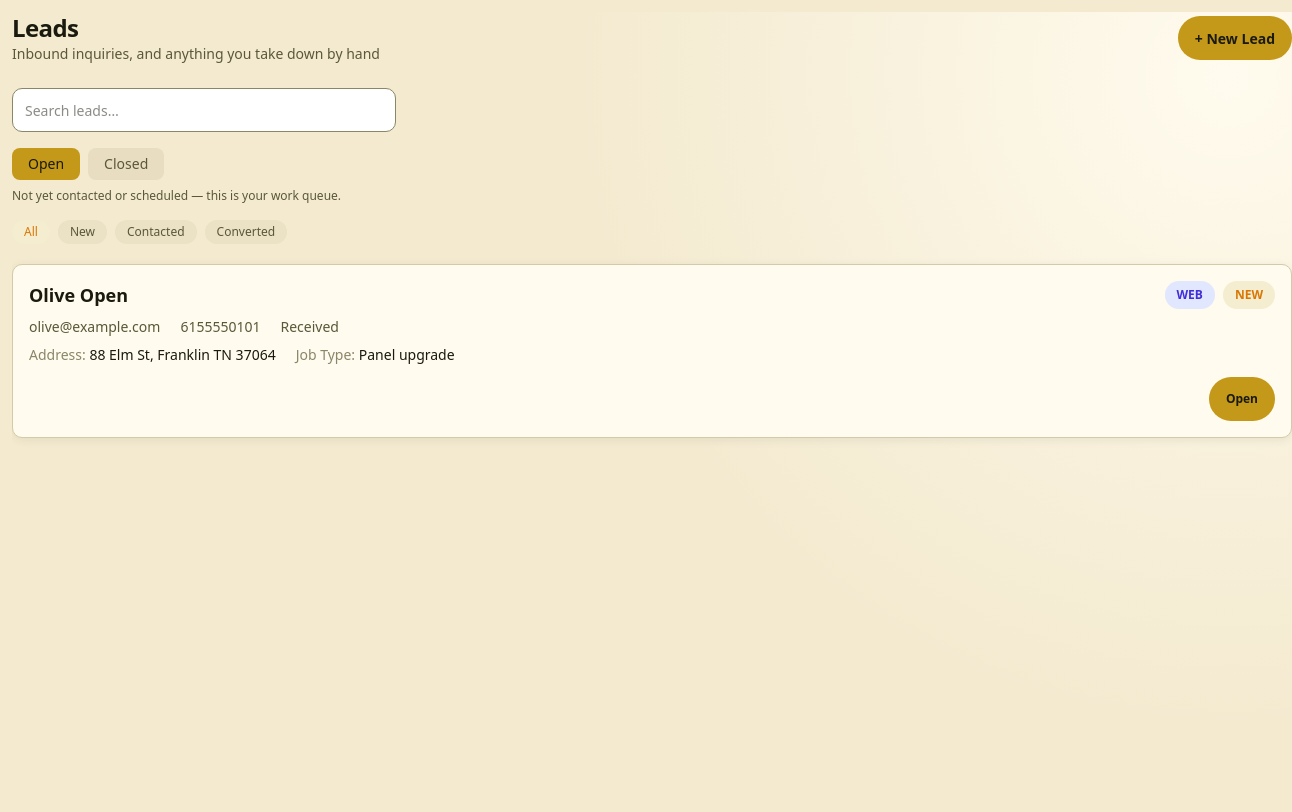
Scenario: LeadsPage — Search leads… › finds a lead on each tab by name and tags the card Open or Closed
The image size is (1292, 812).
Check: the heading "Olive Open" is shown, box [29,281,128,309]
Step 1. Type "o" into the field with placeholder "Search leads…" → (204, 110), box [12,88,396,132]
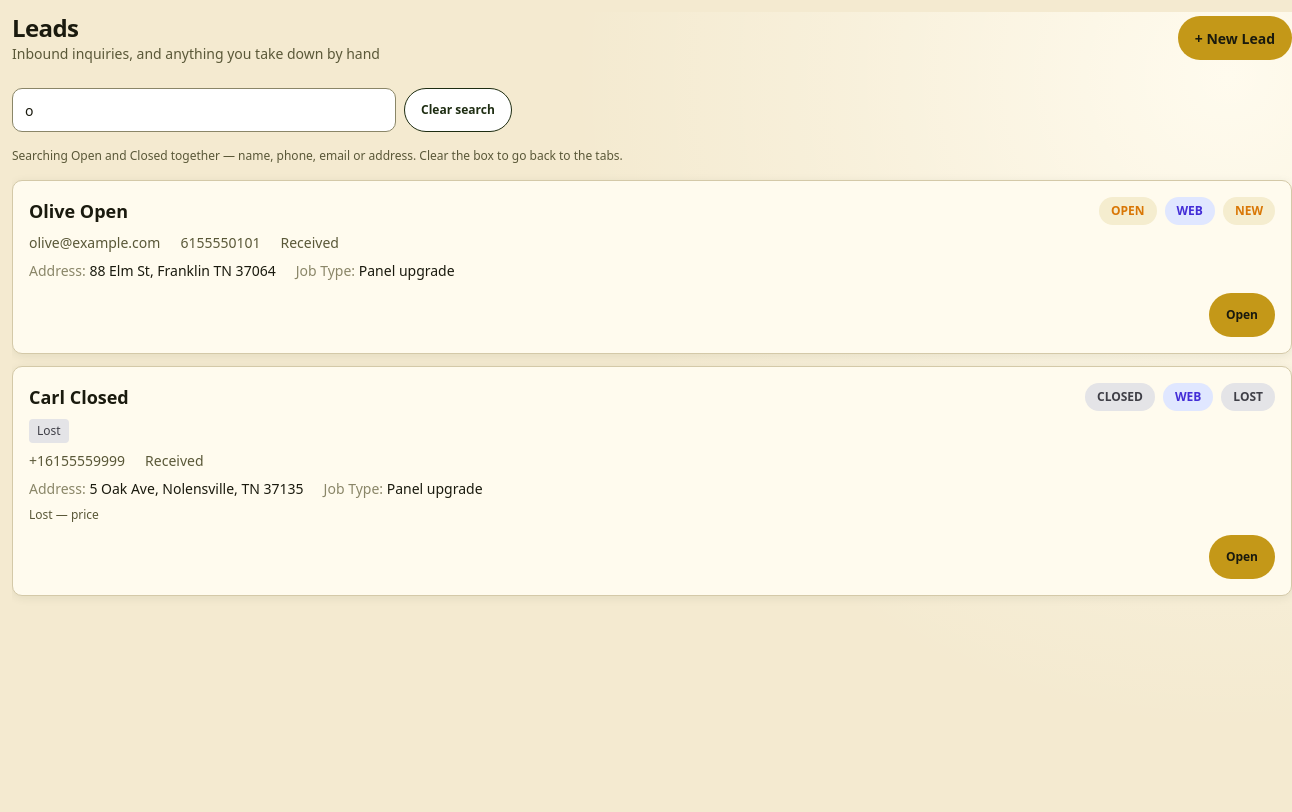
Check: the heading "Carl Closed" is shown, box [29,383,129,411]
Check: the text "contacted" is gone
Check: the text "Searching Open and Closed together" is shown, box [12,147,623,164]
